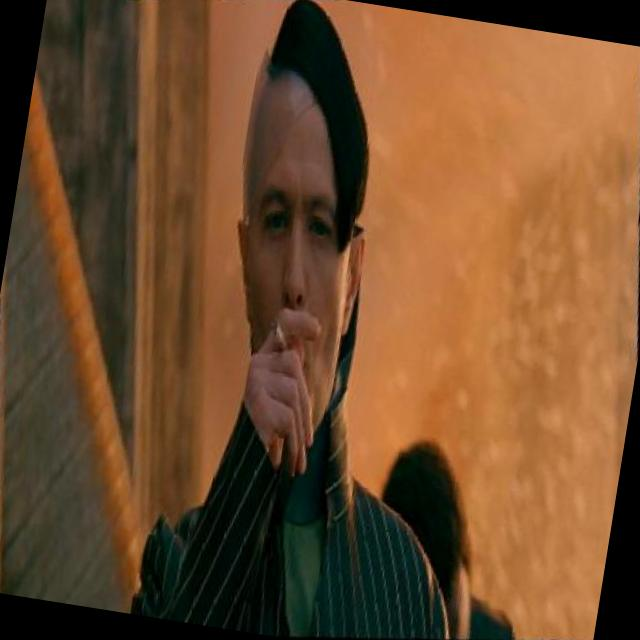cigarette: (267, 315, 298, 360)
